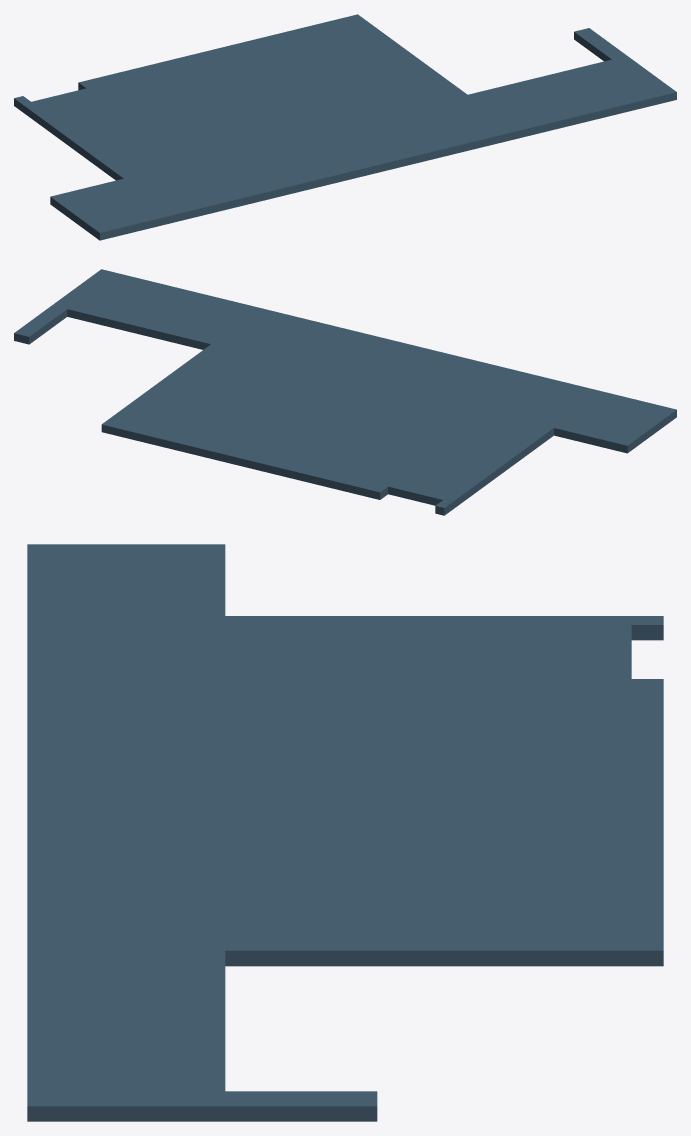
The model's file is v02-04-07-deck.glb.
The picture shows the model from 3 angles, top to bottom: view 1: azimuth 30°, elevation 25°; view 2: azimuth 150°, elevation 25°; view 3: azimuth 270°, elevation 25°; orthographic projection. The views are drawn at different scales.
Parts seen in each view (by area): view 1: v02-04-07-deck; view 2: v02-04-07-deck; view 3: v02-04-07-deck.
Boxes of the visible parts, <box> form: v02-04-07-deck: <box>14,14,676,240</box>; v02-04-07-deck: <box>14,269,676,515</box>; v02-04-07-deck: <box>27,544,663,1121</box>.
Size of the model in its own units: 47 by 0.6 by 22.5.
